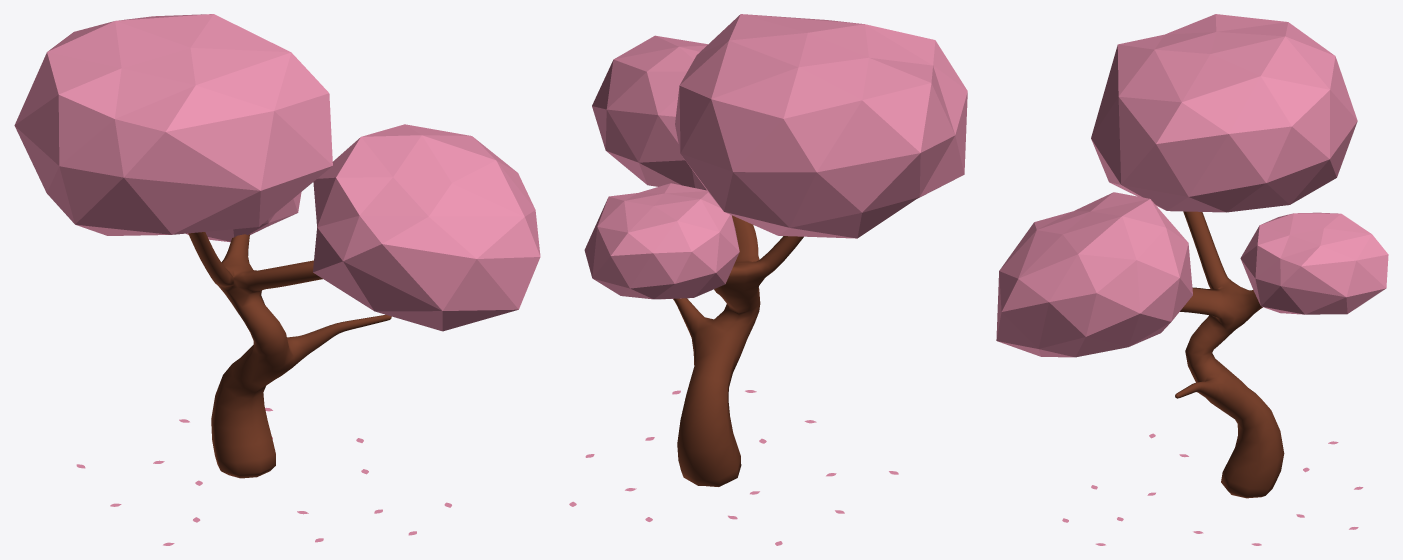
Rendered from PinkBlossom.fbx.
3 views of the same model, side by side, from view 1: azimuth 30°, elevation 25°; view 2: azimuth 150°, elevation 25°; view 3: azimuth 270°, elevation 25° (orthographic). The views are drawn at different scales.
Visible parts, largest first — view 1: Icosphere, Icosphere.001, Vert, Icosphere.002; view 2: Icosphere, Icosphere.002, Vert, Icosphere.001, Plane.003; view 3: Icosphere, Icosphere.001, Icosphere.002, Vert.
Part boxes in pixels (x1=…): Icosphere: x1=14, y1=14, x2=332, y2=235; Icosphere.001: x1=313, y1=124, x2=540, y2=331; Vert: x1=188, y1=232, x2=391, y2=478; Icosphere.002: x1=186, y1=192, x2=301, y2=242; Icosphere: x1=675, y1=14, x2=967, y2=238; Icosphere.002: x1=584, y1=183, x2=739, y2=299; Vert: x1=673, y1=215, x2=803, y2=486; Icosphere.001: x1=592, y1=35, x2=707, y2=190; Plane.003: x1=569, y1=390, x2=898, y2=545; Icosphere: x1=1091, y1=14, x2=1357, y2=212; Icosphere.001: x1=996, y1=192, x2=1192, y2=357; Icosphere.002: x1=1240, y1=212, x2=1388, y2=314; Vert: x1=1175, y1=211, x2=1284, y2=498.
Size of the model in its own units: 1915 by 2062 by 1789.
